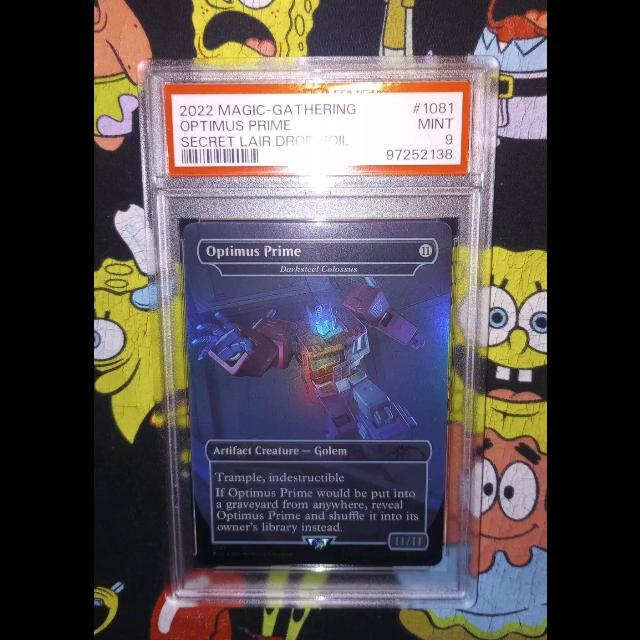card: (181, 221, 453, 567)
psa_label: (161, 81, 471, 177)
psa_slab: (135, 56, 500, 610)
